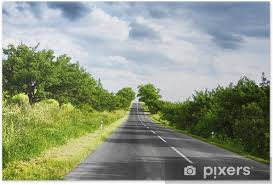strada: (127, 97, 206, 182)
